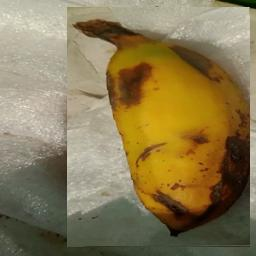Banana Semirotten: (68, 8, 251, 248)
